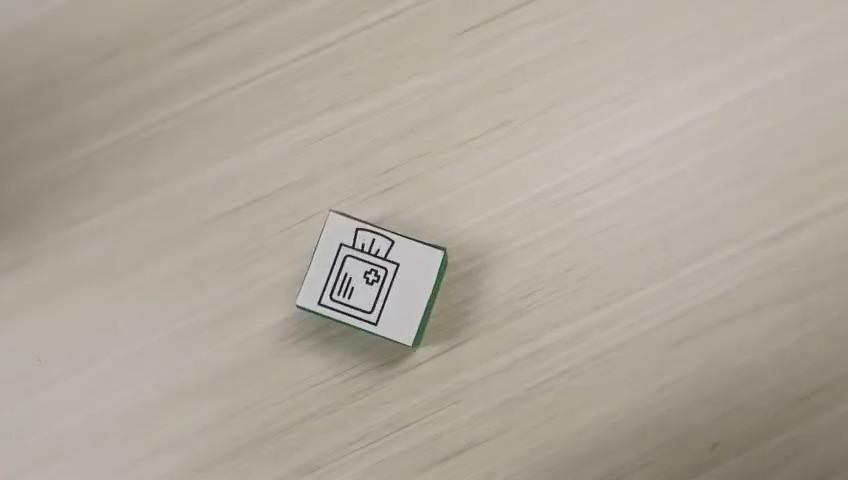Gauze: (294, 208, 448, 348)
